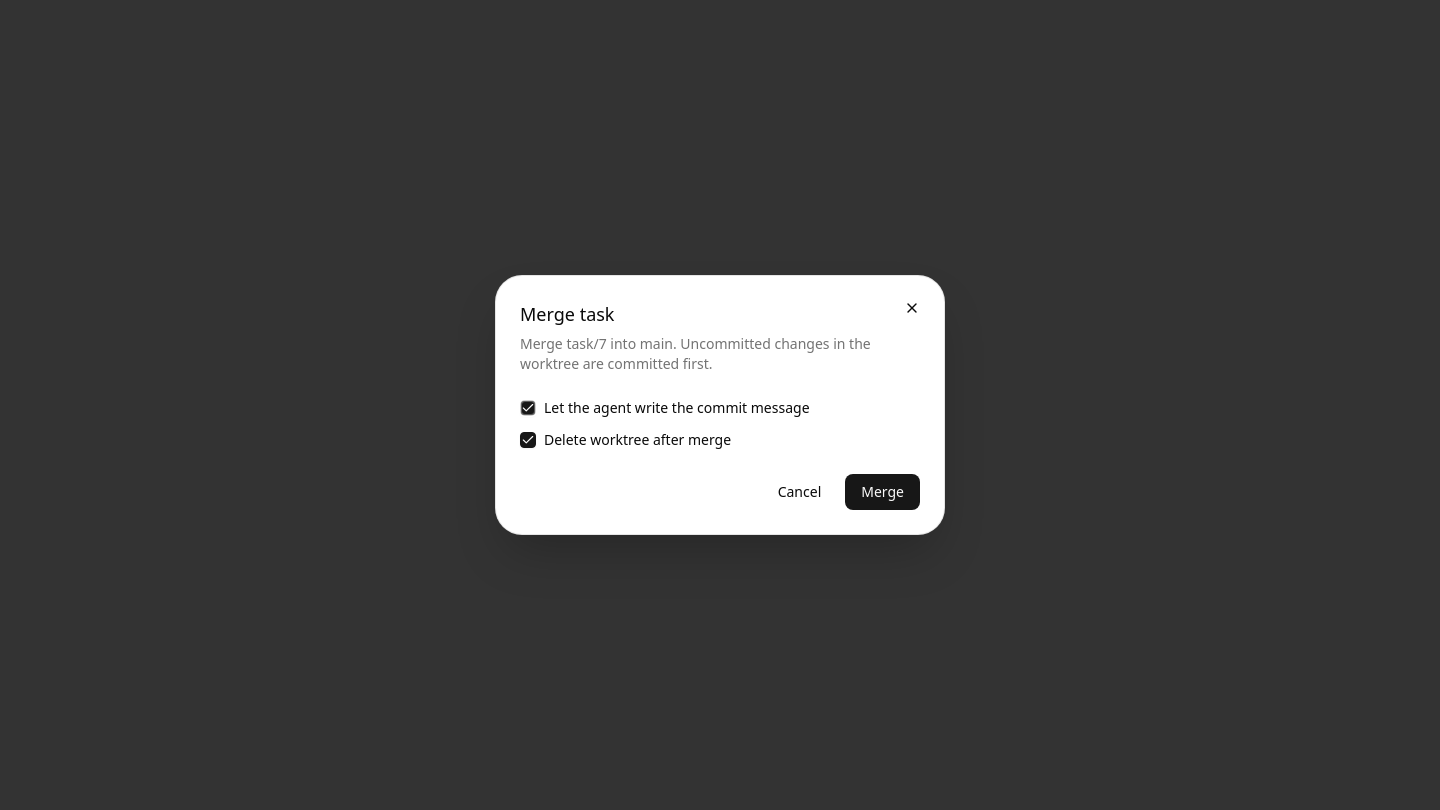
Test: TaskMergeDialog › refuses to submit a manual empty message
The width and height of the screenshot is (1440, 810).
Click the checkbox named "write the commit message" next to "Let the agent write the commit message" at (528, 408), box [520,400,536,416]
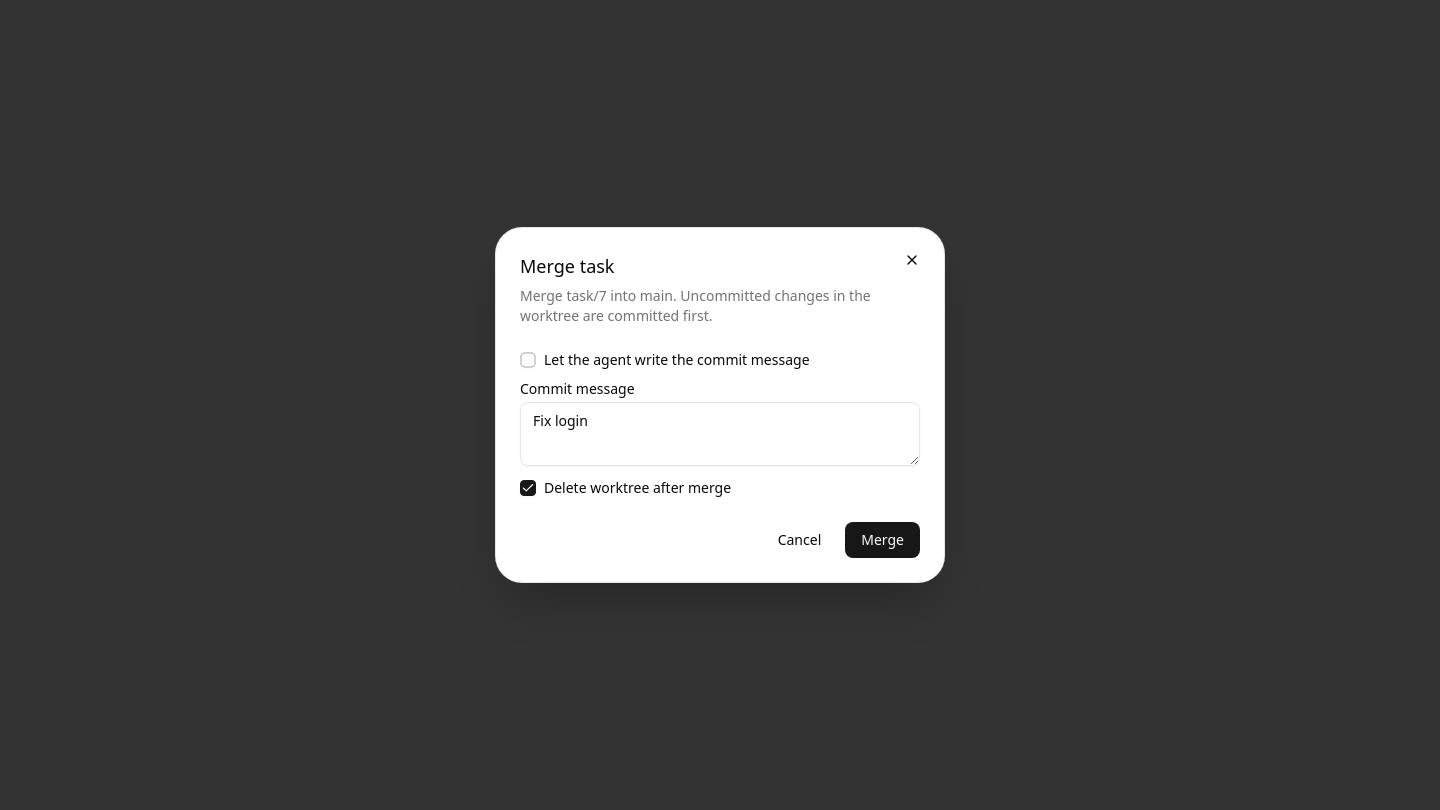
Clear the text box labelled "Commit message" at (720, 434), box [520,402,920,466]
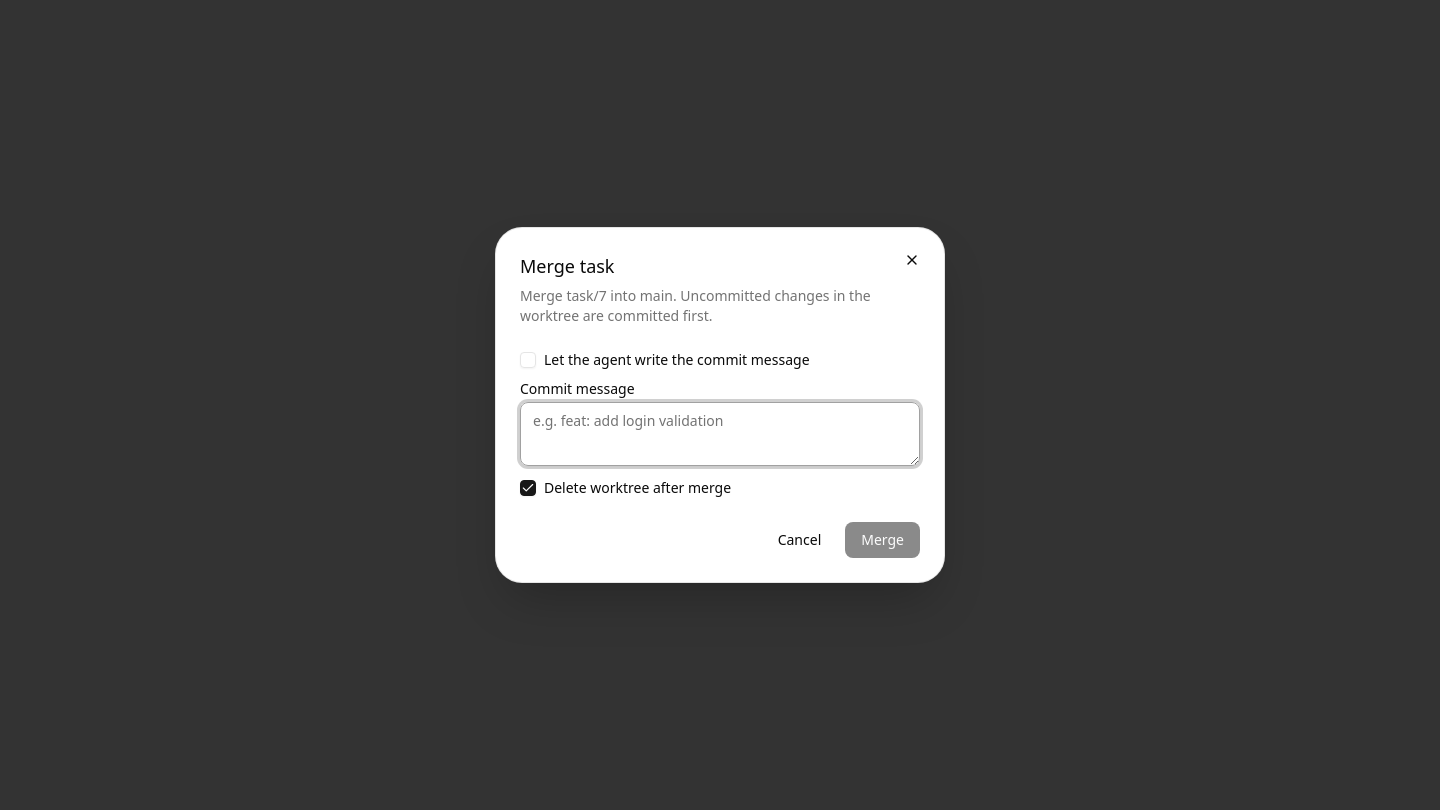
Expected: the button "Merge" is disabled, [845,522,920,558]
